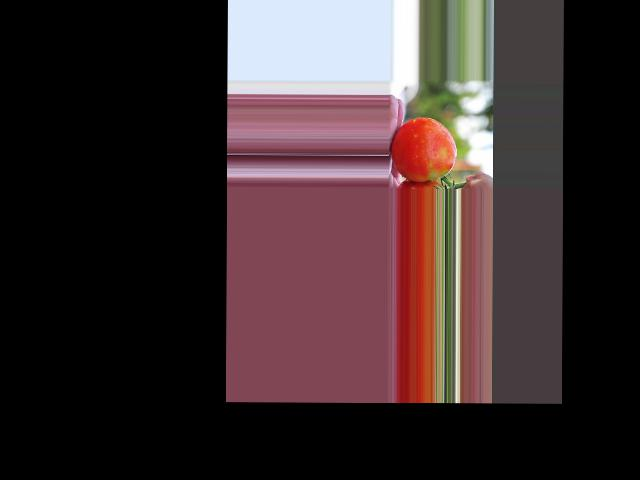tomato: (391, 117, 456, 181)
